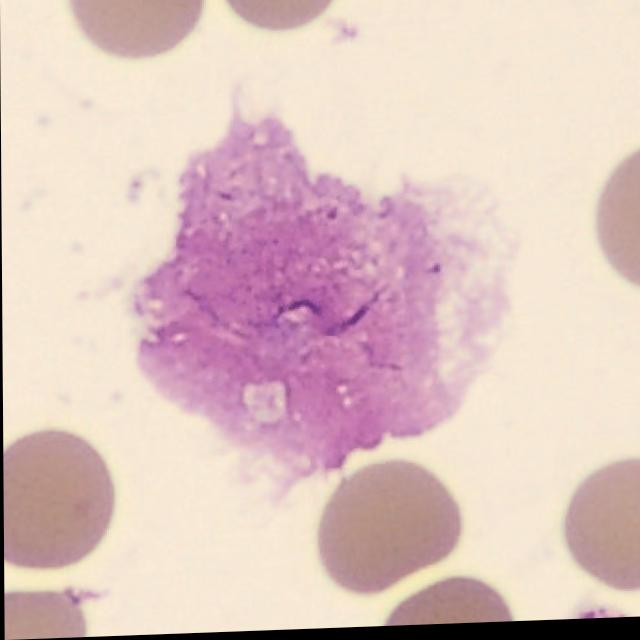Restos celulares: (131, 94, 520, 488)
